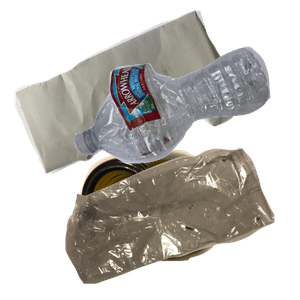glass: (77, 147, 295, 300)
paper: (12, 10, 240, 176)
plastic: (72, 44, 300, 200)
trash: (63, 145, 300, 300)
